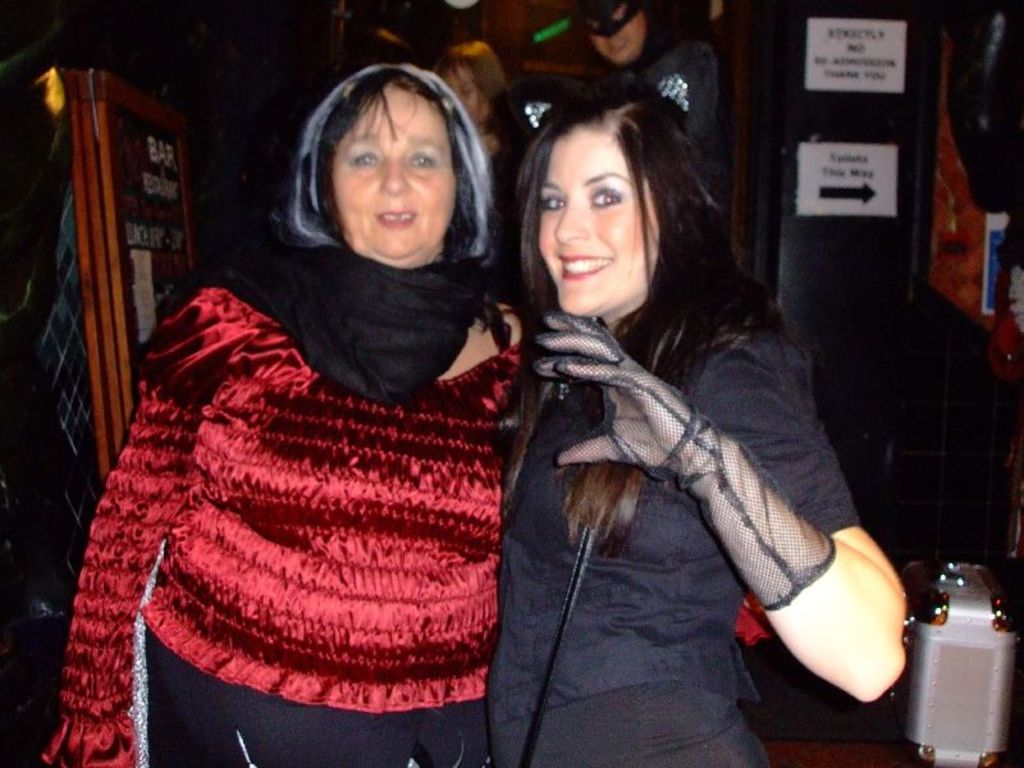Human_hand: (529, 308, 696, 463)
